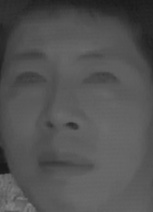eye: (81, 67, 120, 90), (15, 67, 50, 90)
mouth: (35, 149, 95, 182)
